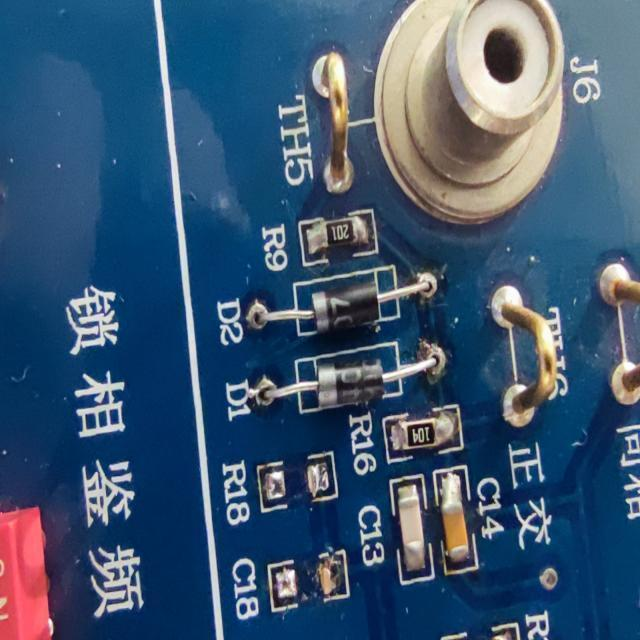Missing component: (215, 429, 345, 538), (227, 532, 355, 629)
